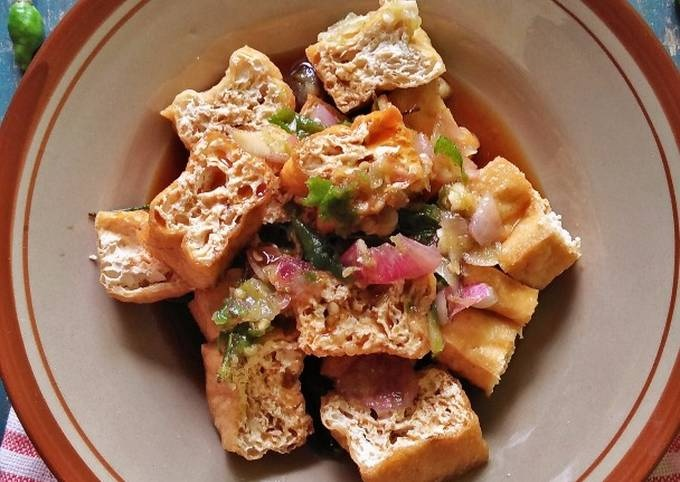tahu_gejrot: (92, 1, 582, 481)
